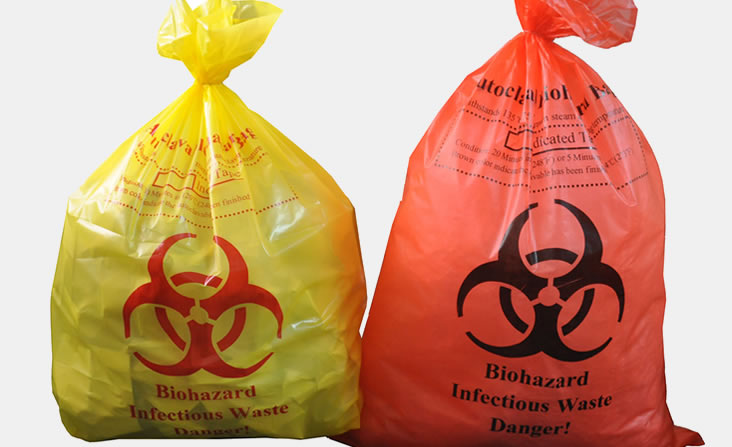plastic_bagwdw: (335, 1, 703, 447), (20, 1, 387, 447)
